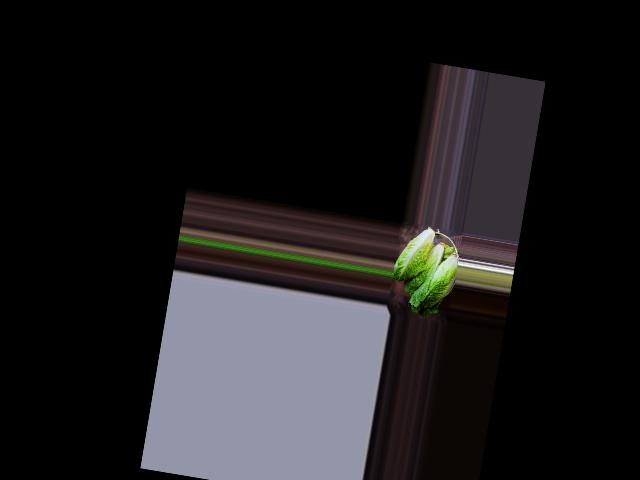lettuce: (406, 241, 461, 318)
